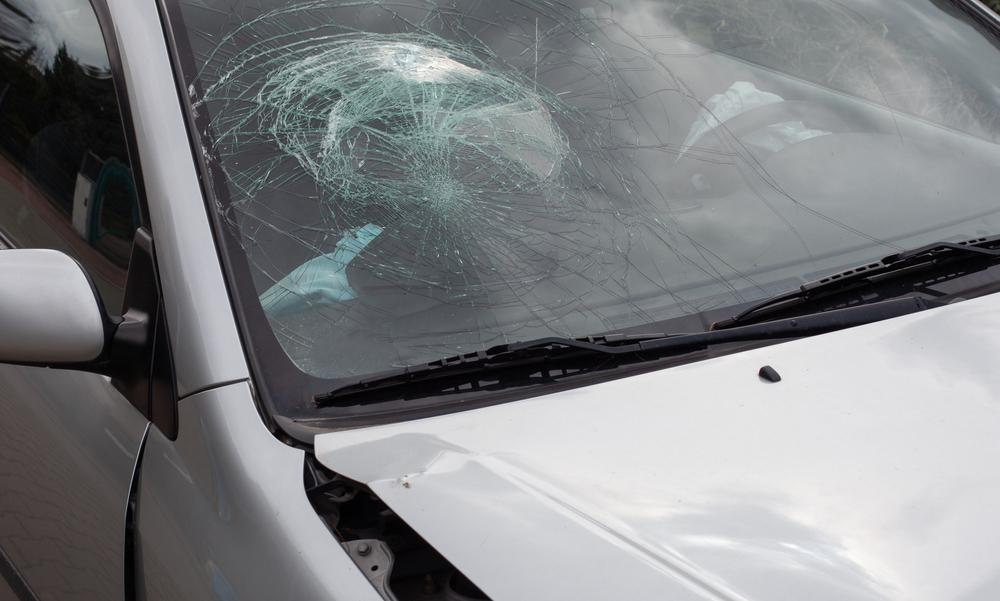glass shatter: (167, 0, 1000, 419)
